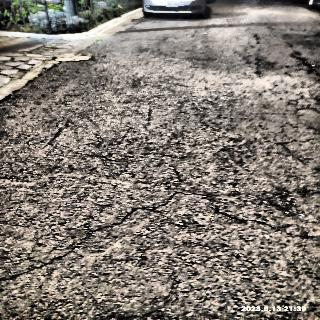crack: (0, 190, 213, 282), (214, 204, 320, 239)
